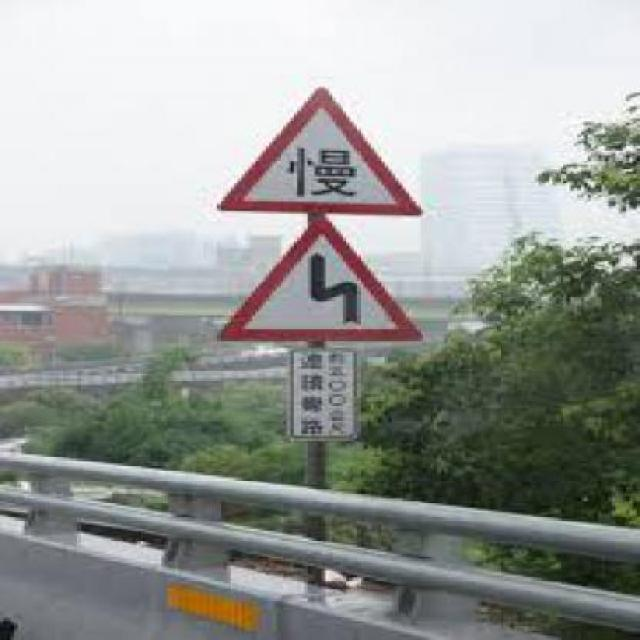warn_double_curve: (206, 218, 437, 351)
